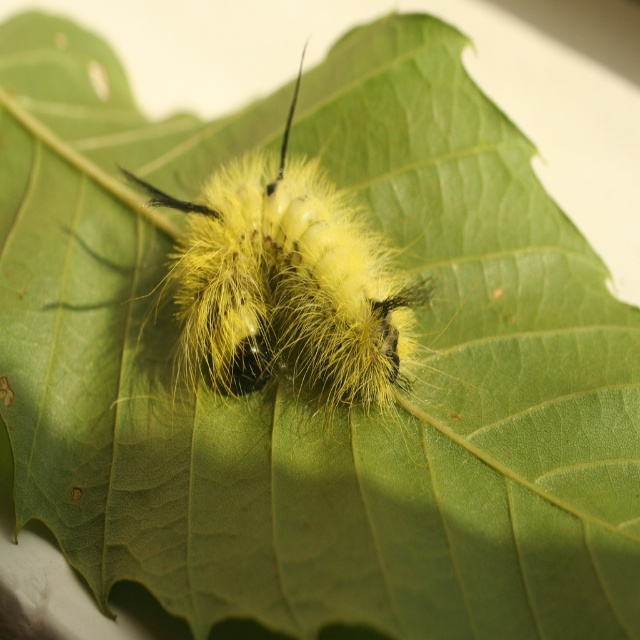Caterpillar: (114, 35, 486, 470)
